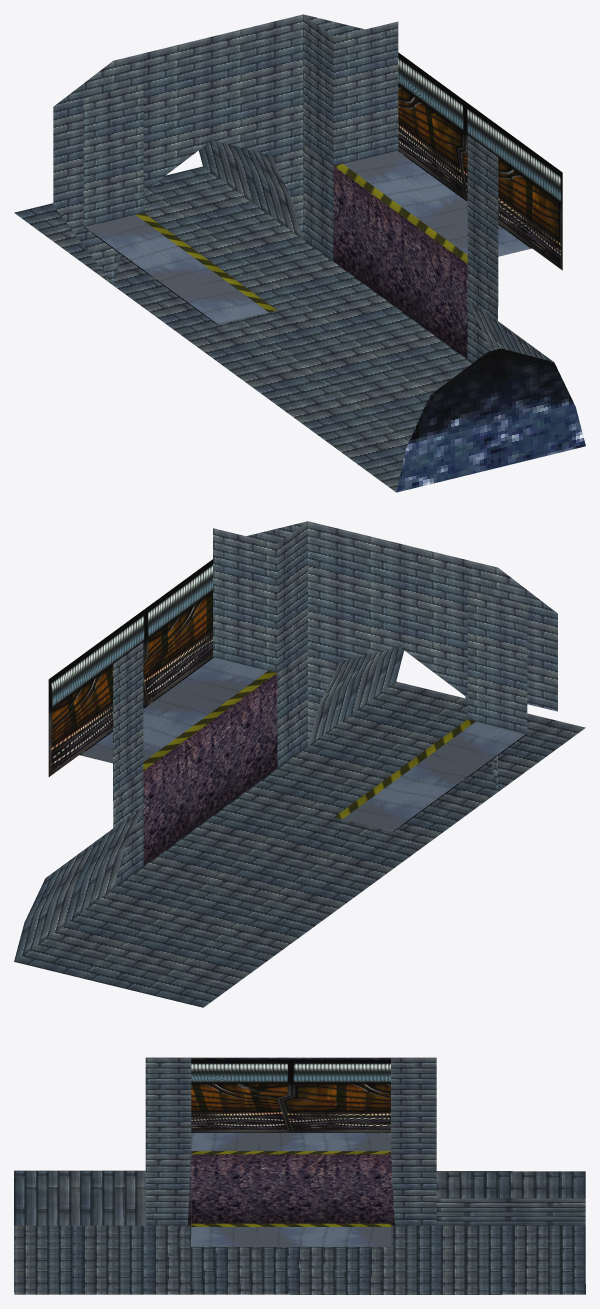
The picture shows the model from 3 angles, top to bottom: view 1: azimuth 30°, elevation 25°; view 2: azimuth 150°, elevation 25°; view 3: azimuth 270°, elevation 25°; orthographic projection. The views are drawn at different scales.
Visible parts, largest first — view 1: Object07; view 2: Object07; view 3: Object07.
Boxes of the visible parts, x1,y1,x2,y2 form: Object07: [14, 14, 585, 492]; Object07: [14, 521, 585, 1007]; Object07: [14, 1057, 585, 1294].
Size of the model in its own units: 1060 by 724 by 2235.
Materials: 7 (7 with a texture image).
